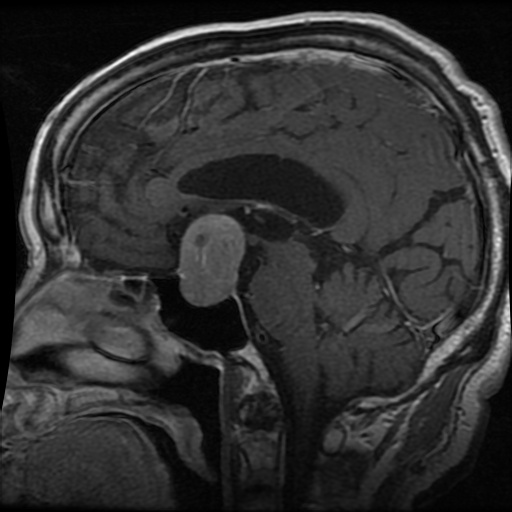pituitary: (178, 212, 245, 304)
